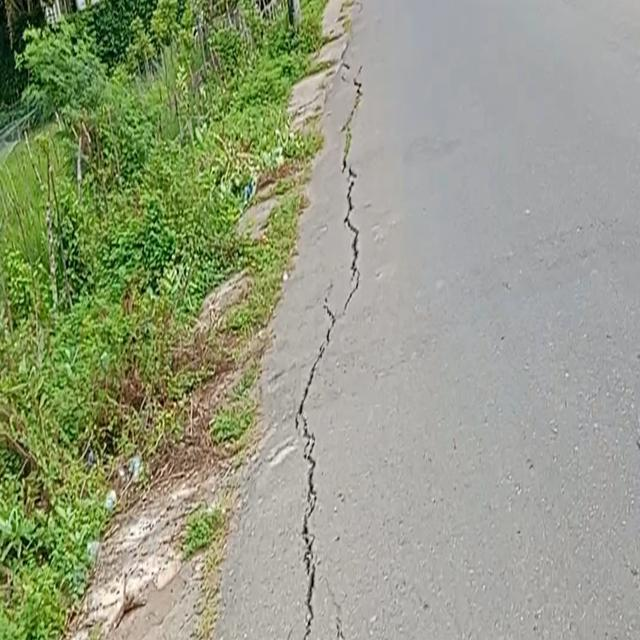Memanjang: (282, 52, 369, 640)
Pinggir: (27, 319, 276, 640)
